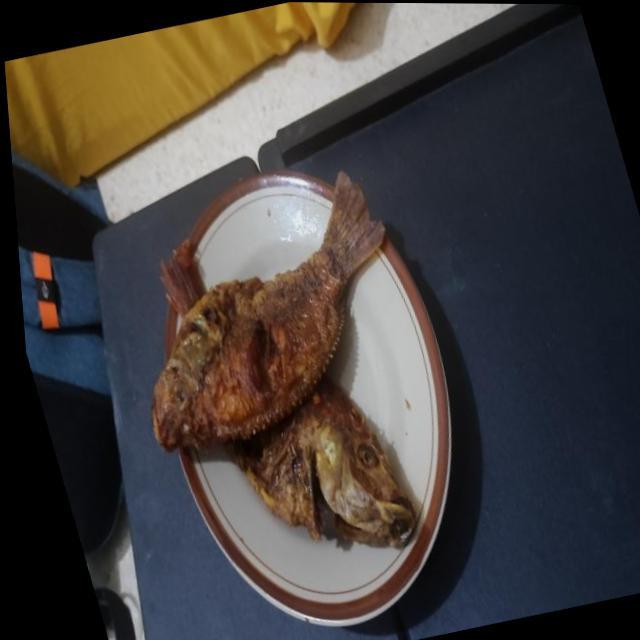ikan_mujair: (159, 242, 418, 548), (151, 172, 384, 451)
